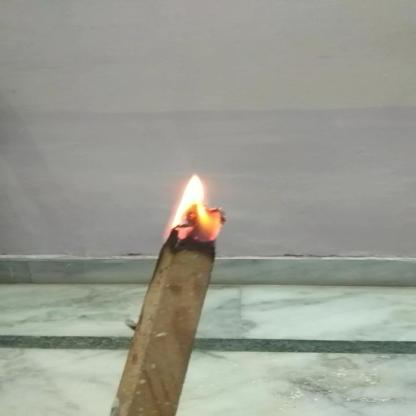fire: (153, 165, 232, 240)
